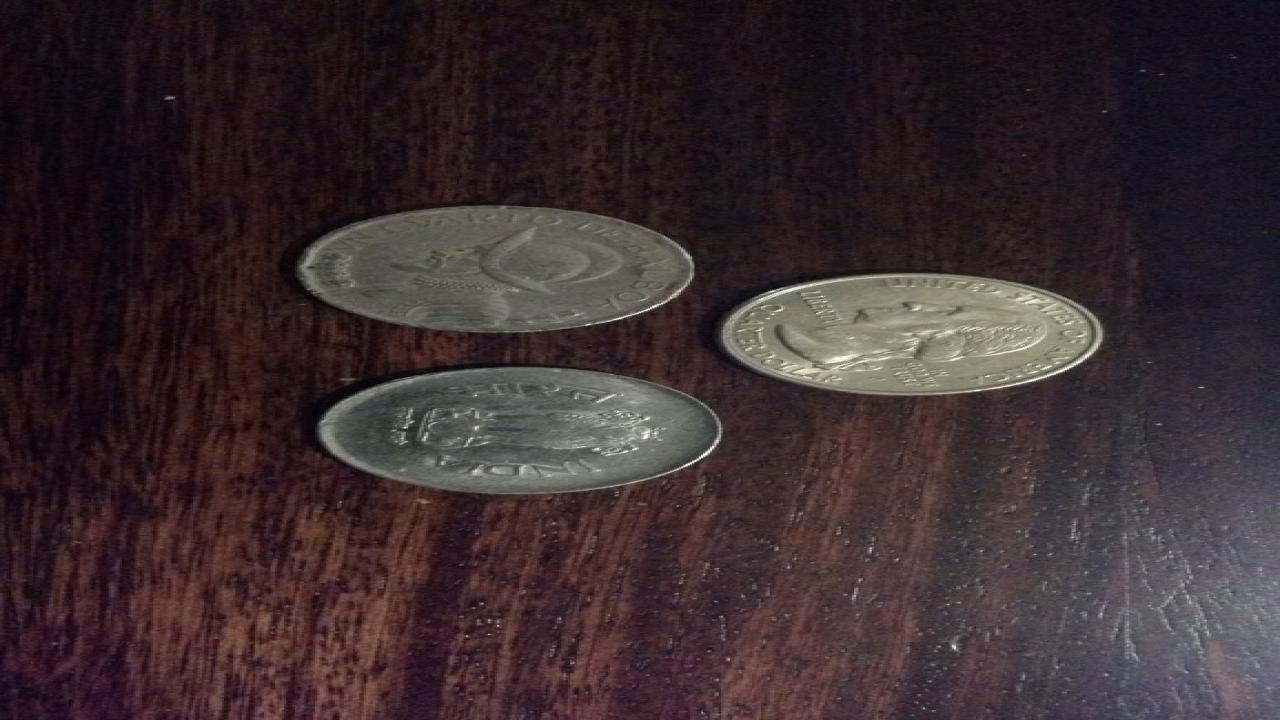coin: (317, 365, 735, 495), (288, 204, 704, 333), (710, 271, 1109, 398)
